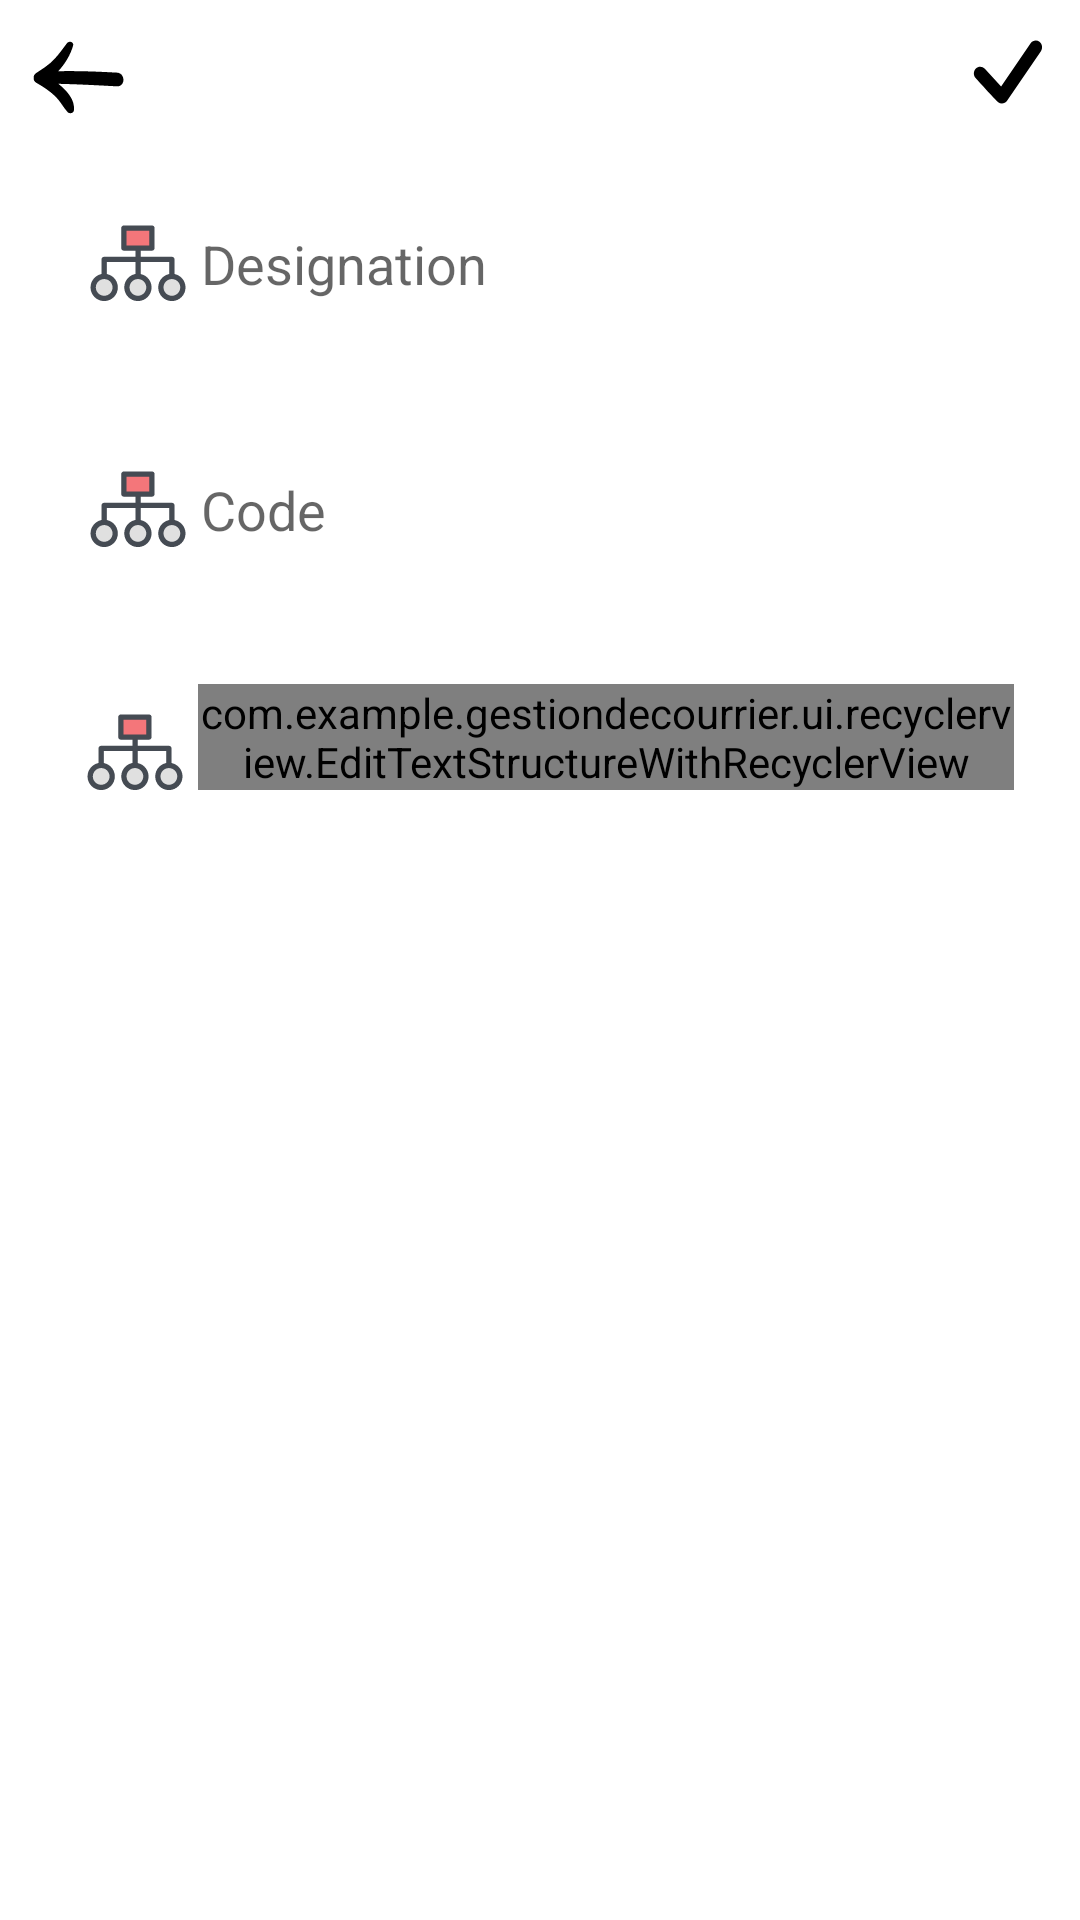

Icons on this 1080×1920 Android screen, each with its box as {"left": x1, "top": y1, "right": x2, "bottom": y2}:
back: {"left": 33, "top": 41, "right": 124, "bottom": 114}
check: {"left": 973, "top": 40, "right": 1042, "bottom": 104}
